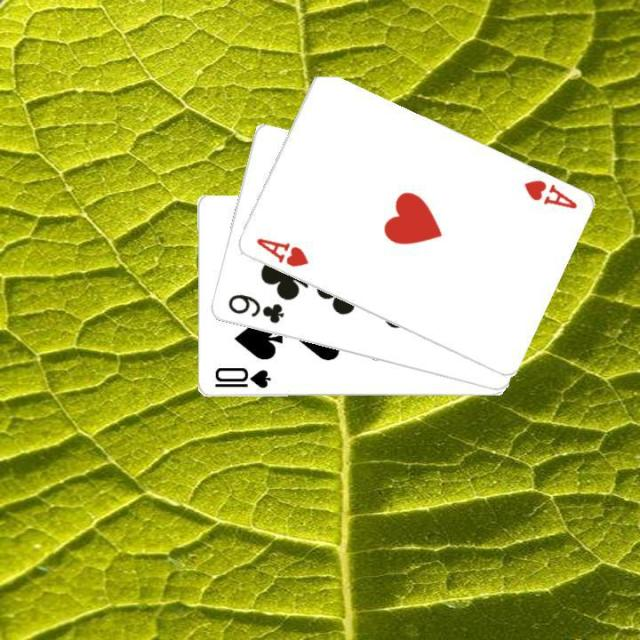10S: (210, 365, 272, 391)
9C: (223, 290, 286, 326)
AH: (519, 176, 579, 212), (252, 234, 310, 269)
